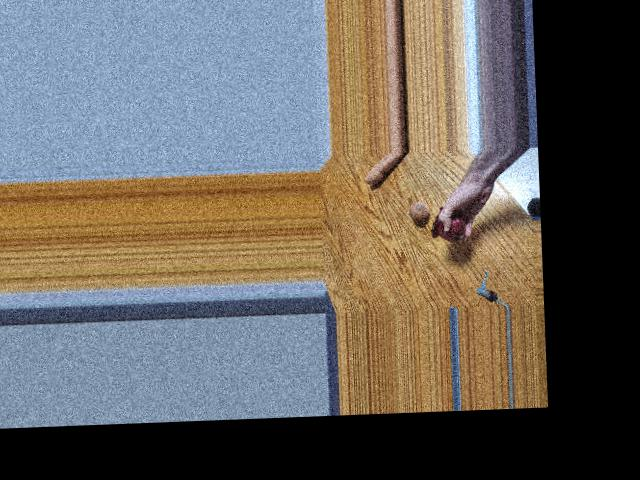onion: (437, 215, 464, 242)
